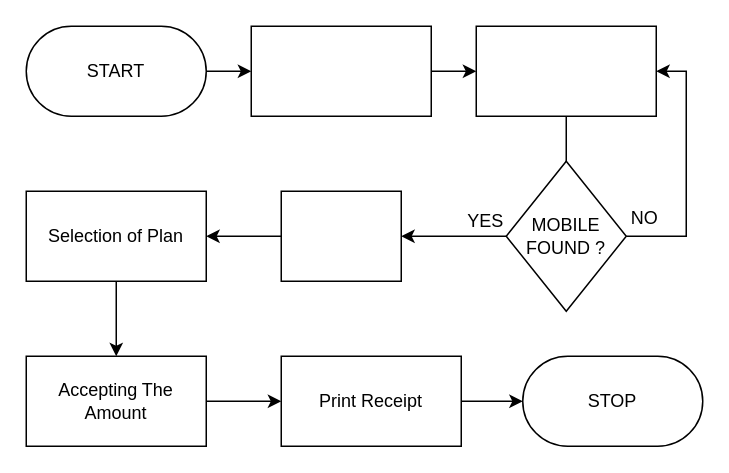
Some shapes in this 729 by 473 pixel diagram are drawn without their labels. The shapes that lost their labels are listed below. From the top down, each one's centre as x and y in pixels, then its label:
At point 340,70: "SERVICE SELECTION".
At point 565,70: "ASKED FOR THE MOBILE".
At point 340,235: "Load Plans if JWP".
